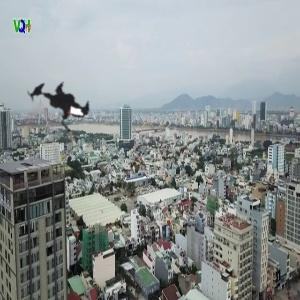drone: (9, 58, 108, 157)
